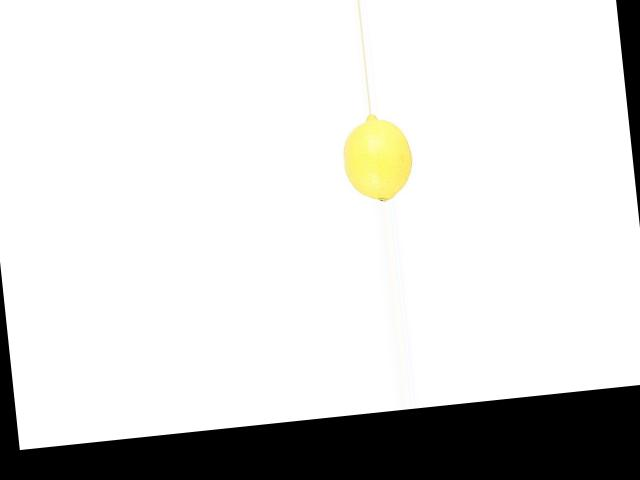lemon: (339, 111, 416, 204)
